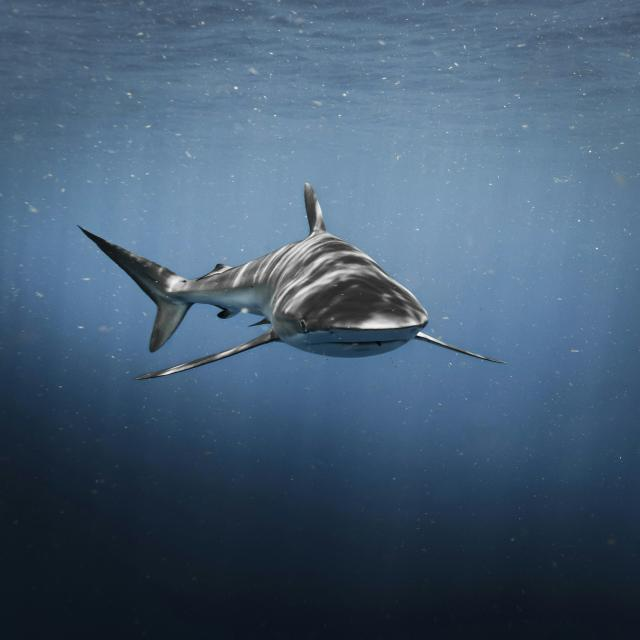gaviota: (83, 183, 504, 379)
